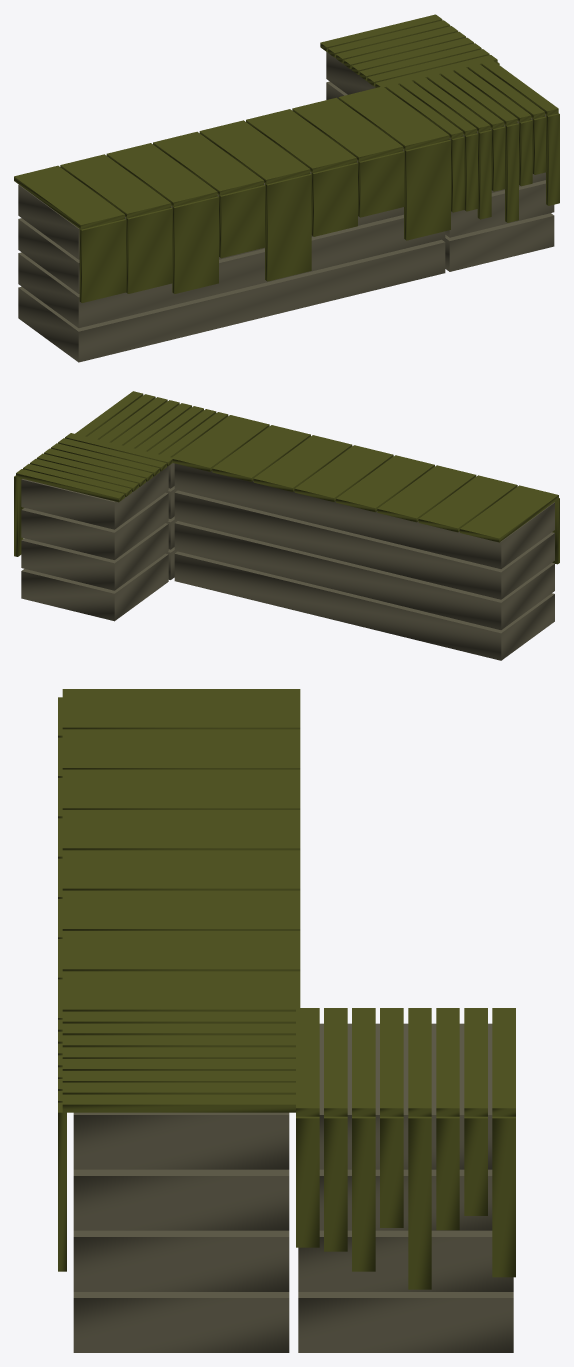
File: SM_SacosRemateEspejo_v4_Red_e0_Sano_LOD1.fbx
3 views of the same model, one above another, from view 1: azimuth 30°, elevation 25°; view 2: azimuth 150°, elevation 25°; view 3: azimuth 270°, elevation 25° (orthographic). The views are drawn at different scales.
Visible parts, largest first — view 1: SM_sacos_piezas_v36_LOD1; view 2: SM_sacos_piezas_v36_LOD1; view 3: SM_sacos_piezas_v36_LOD1.
Part boxes in pixels (x1,y1,x2,y2): SM_sacos_piezas_v36_LOD1: (14, 14, 559, 362); SM_sacos_piezas_v36_LOD1: (14, 391, 559, 660); SM_sacos_piezas_v36_LOD1: (58, 689, 515, 1352).
Size of the model in its own units: 4.44 by 1.23 by 2.04.
